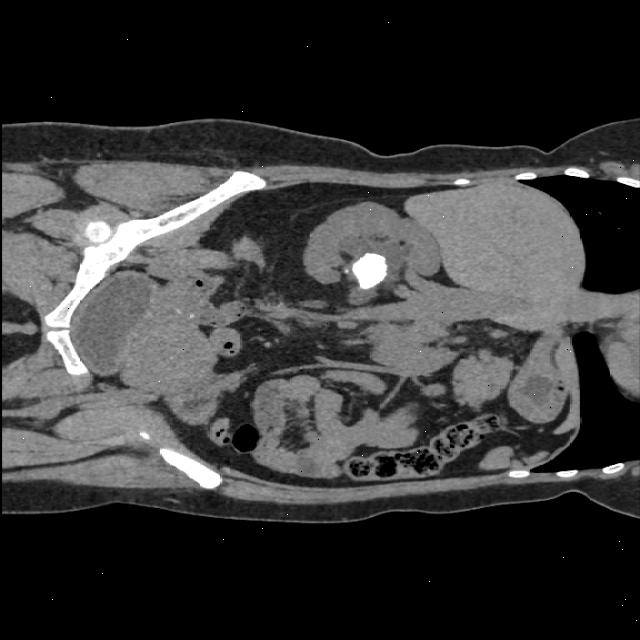kidneystone: (351, 254, 386, 289)
